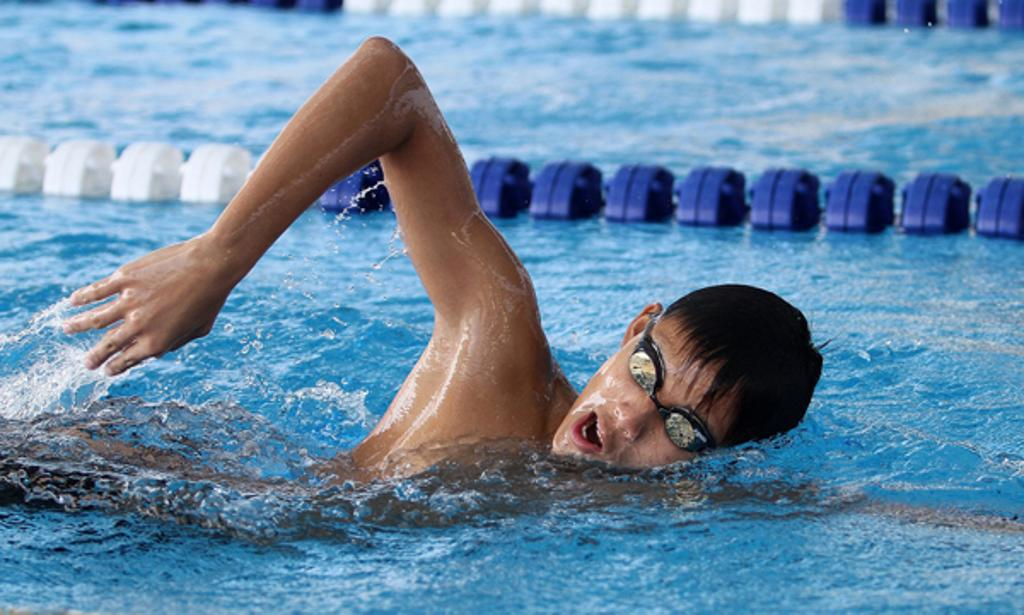face: (553, 345, 727, 477)
